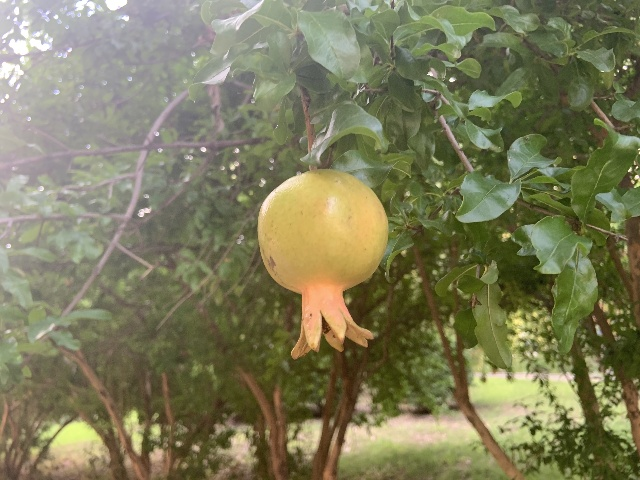mid-growth: (256, 169, 389, 357)
